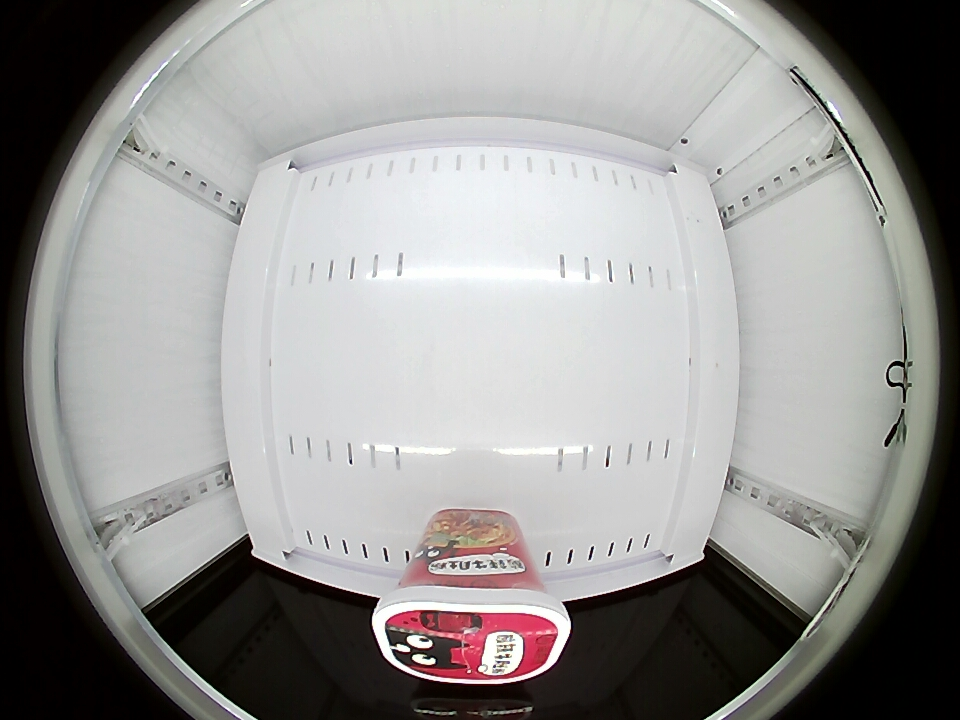niudufen: (373, 566, 571, 684)
